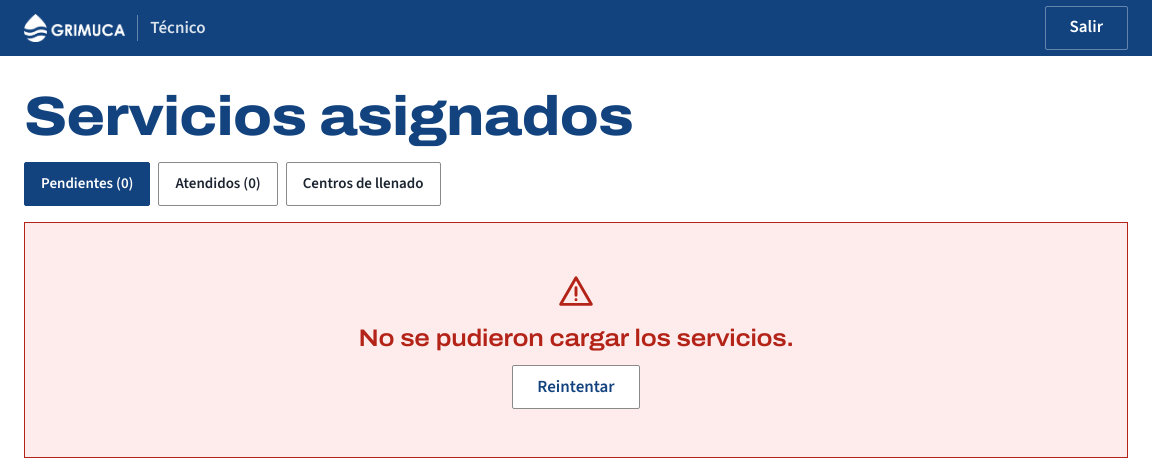
it: /tecnico › sin servicios muestra el estado vacío; si falla, ofrece reintentar
Click the button "Reintentar": point(576, 387) 512,365 -> 640,409
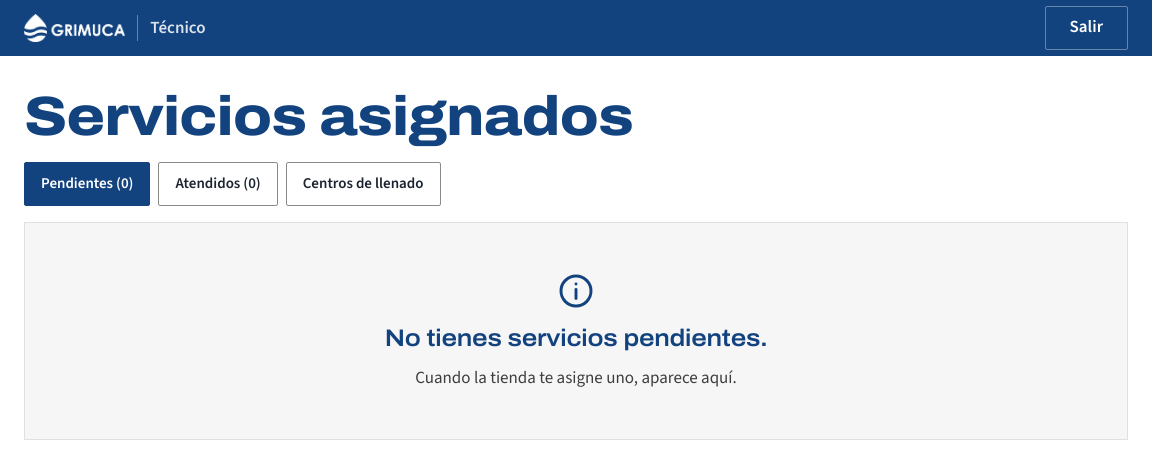
Now the heading "No tienes servicios pendientes." is shown, box 385,323 -> 767,353
